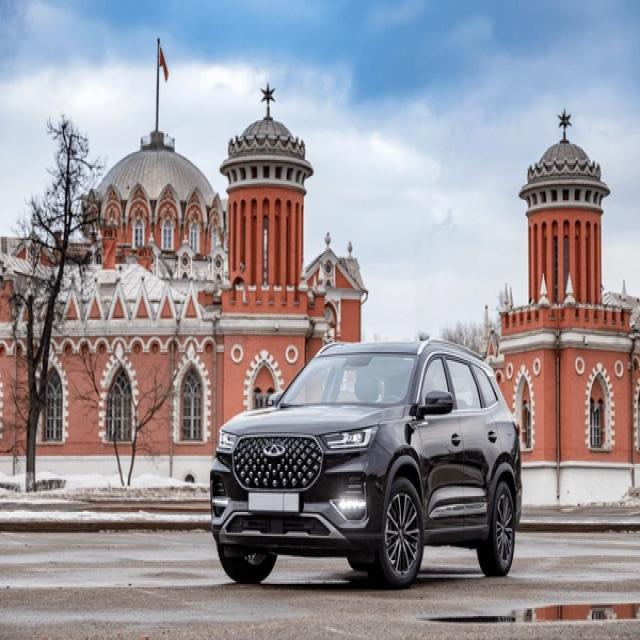cherry: (263, 442, 287, 457)
